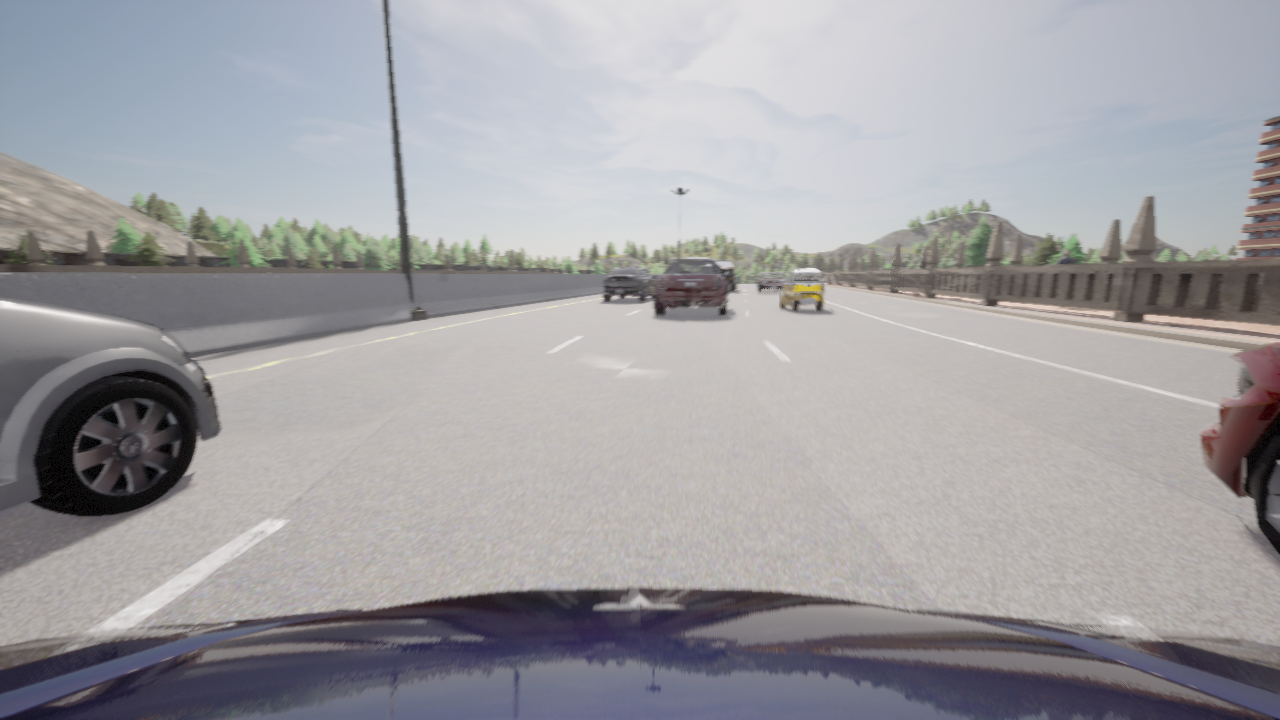cyclist: (0, 588, 1279, 719), (1200, 343, 1279, 554), (655, 257, 730, 315), (780, 269, 825, 311), (603, 267, 657, 301), (716, 261, 737, 291), (757, 272, 786, 292)
pedestrian: (1056, 250, 1075, 264)
